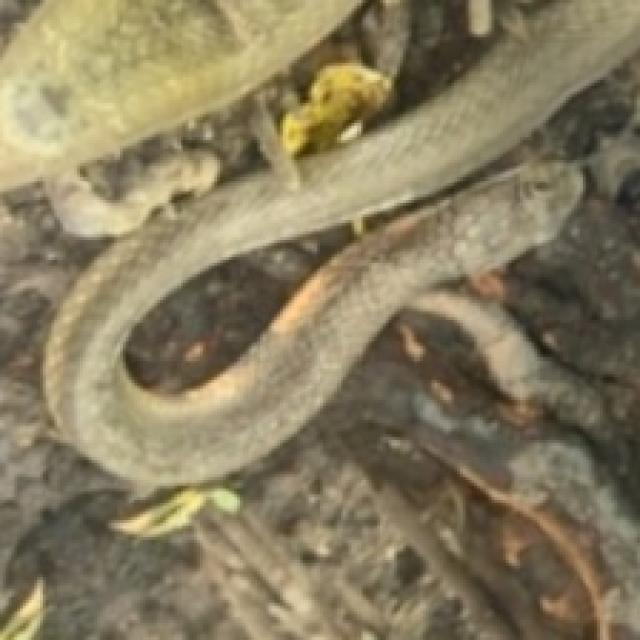king cobra: (43, 0, 637, 489)
